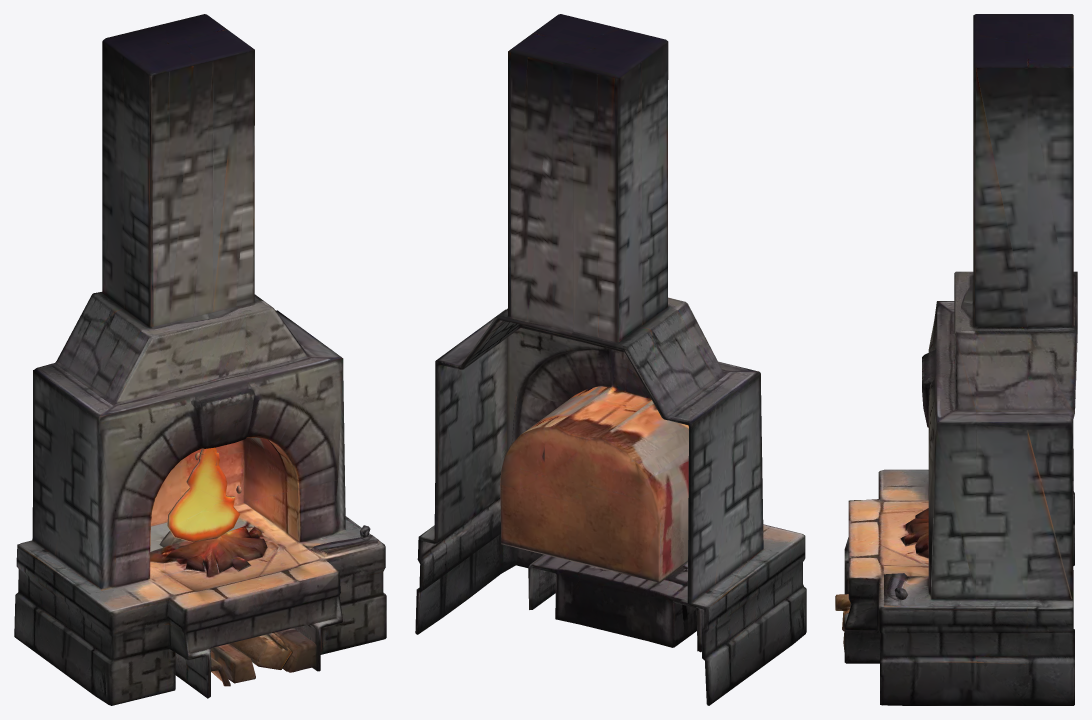
The model's file is Cozy_Brick_Fireplace.glb.
3 renders of one model, left to right at view 1: azimuth 30°, elevation 25°; view 2: azimuth 150°, elevation 25°; view 3: azimuth 270°, elevation 25°, orthographic. The views are drawn at different scales.
Bounding box in the file's own units: 0.9667 × 1.91 × 0.7007.
Materials: 1 (1 with a texture image).
